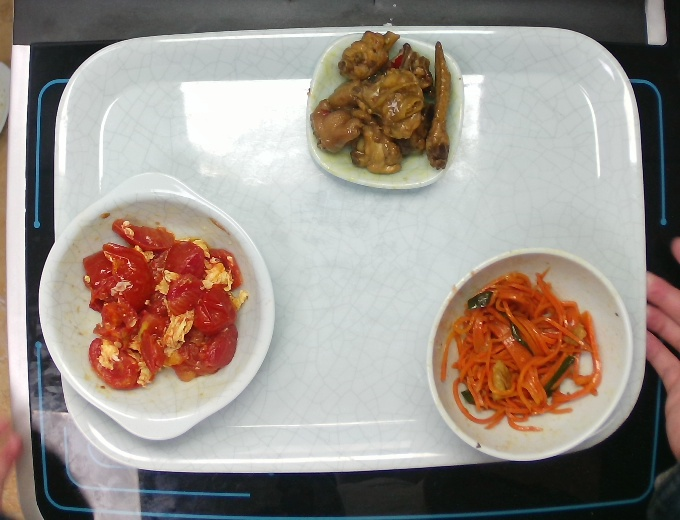JYsf-Fan_Wan: (423, 244, 635, 465)
JYsf-Shuang_Er_Wan: (35, 168, 279, 442)
JYsf-Si_Fang_Die: (303, 32, 466, 192)
